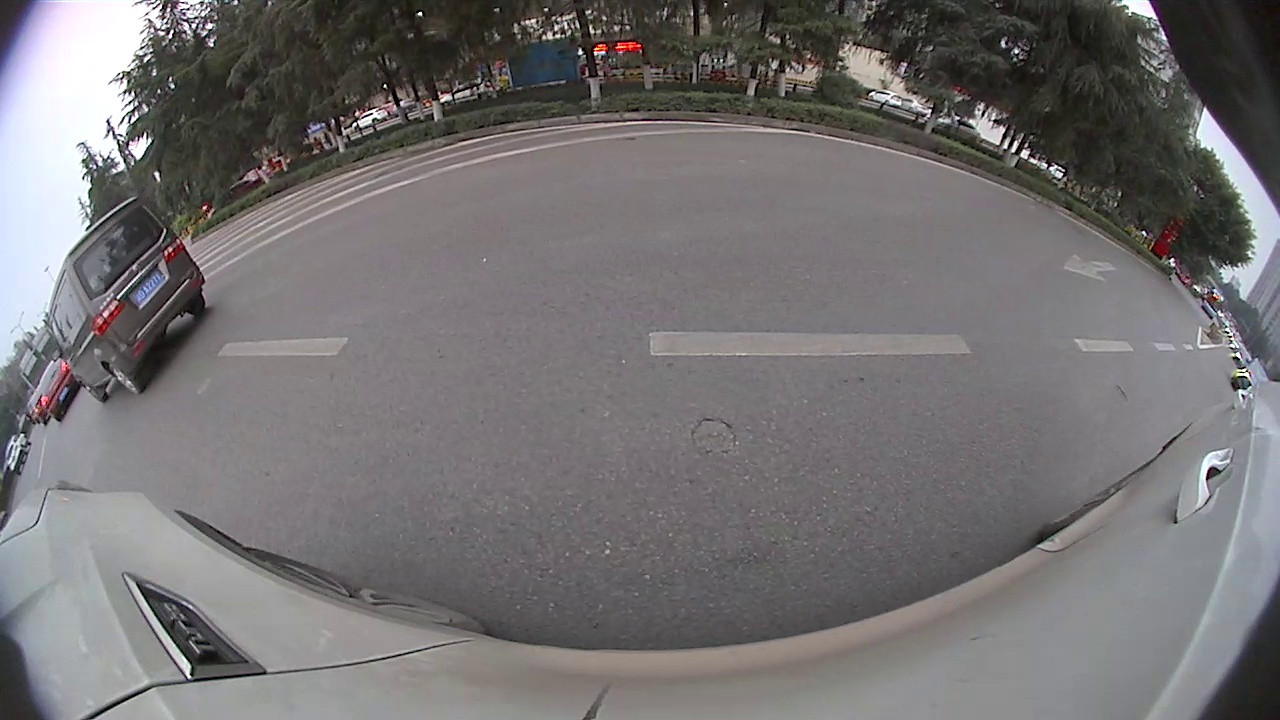car: (47, 191, 210, 404), (35, 352, 81, 425)
rear: (104, 359, 144, 396)
